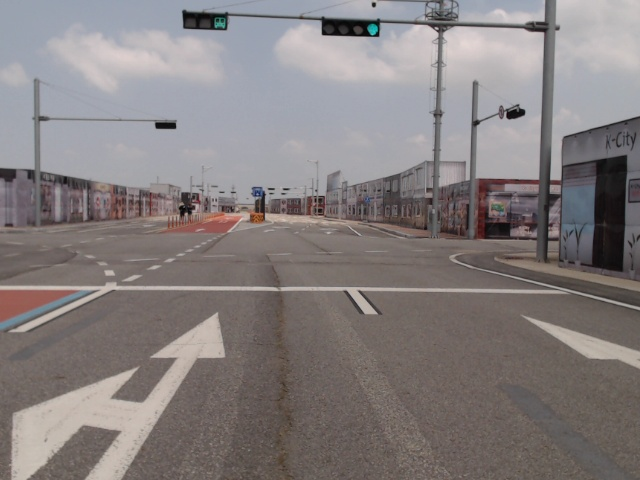straight_green_4: (321, 19, 381, 38)
